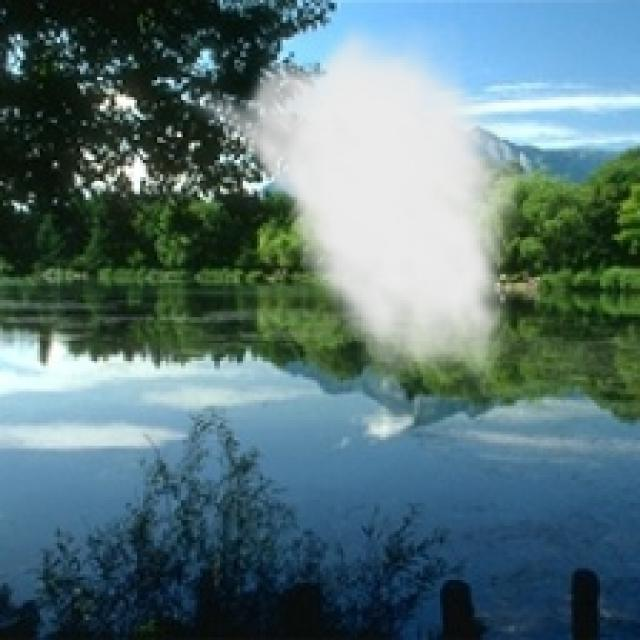Smoke: (182, 14, 528, 400)
